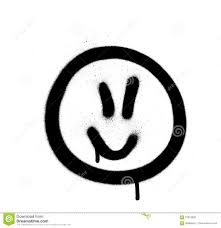feliz: (29, 32, 208, 186), (82, 72, 157, 156)
